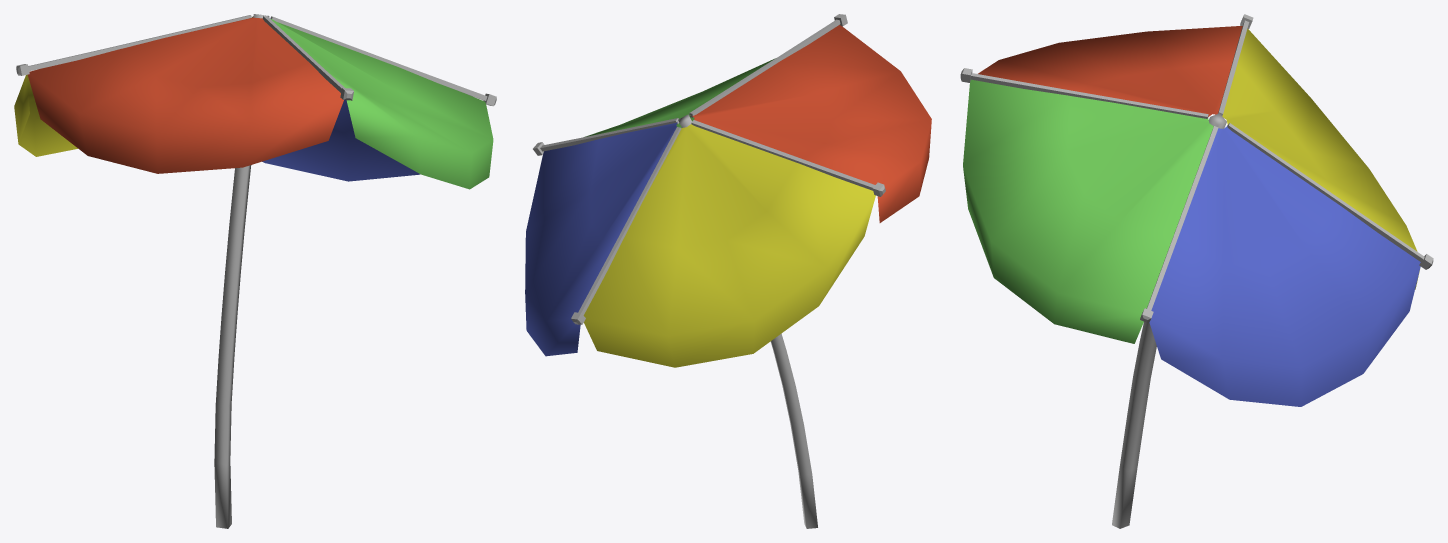
3 views of the same model, side by side, from view 1: azimuth 30°, elevation 25°; view 2: azimuth 150°, elevation 25°; view 3: azimuth 270°, elevation 25° (orthographic). The views are drawn at different scales.
Parts seen in each view (by area): view 1: Vert.040; view 2: Vert.040; view 3: Vert.040.
Part boxes in pixels (bbox=[...]): Vert.040: bbox=[14, 14, 496, 528]; Vert.040: bbox=[525, 14, 931, 528]; Vert.040: bbox=[960, 14, 1433, 528].
Size of the model in its own units: 287 by 310 by 278.
